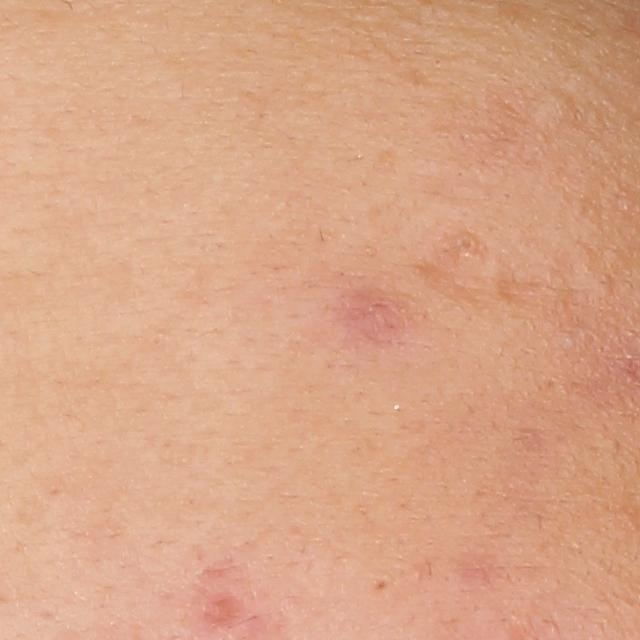atrophic_scar: (416, 250, 481, 295)
comedo: (536, 88, 570, 123)
